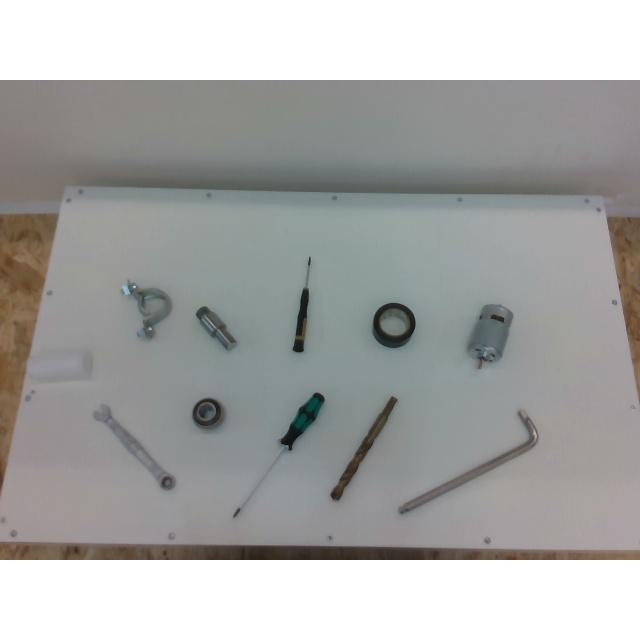AllenKey: (398, 409, 538, 513)
Axis2: (196, 306, 237, 349)
Bearing2: (192, 398, 224, 428)
Drill: (330, 396, 398, 500)
Housing: (121, 280, 171, 340)
Motor2: (467, 304, 513, 368)
Screwdriver: (232, 392, 324, 518)
Spacer: (28, 350, 92, 382)
Wrench: (93, 404, 175, 490)
